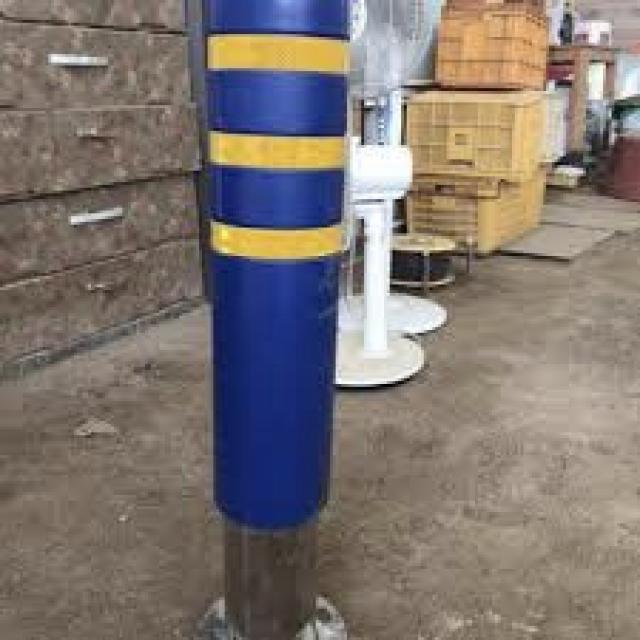bollard: (193, 1, 351, 640)
